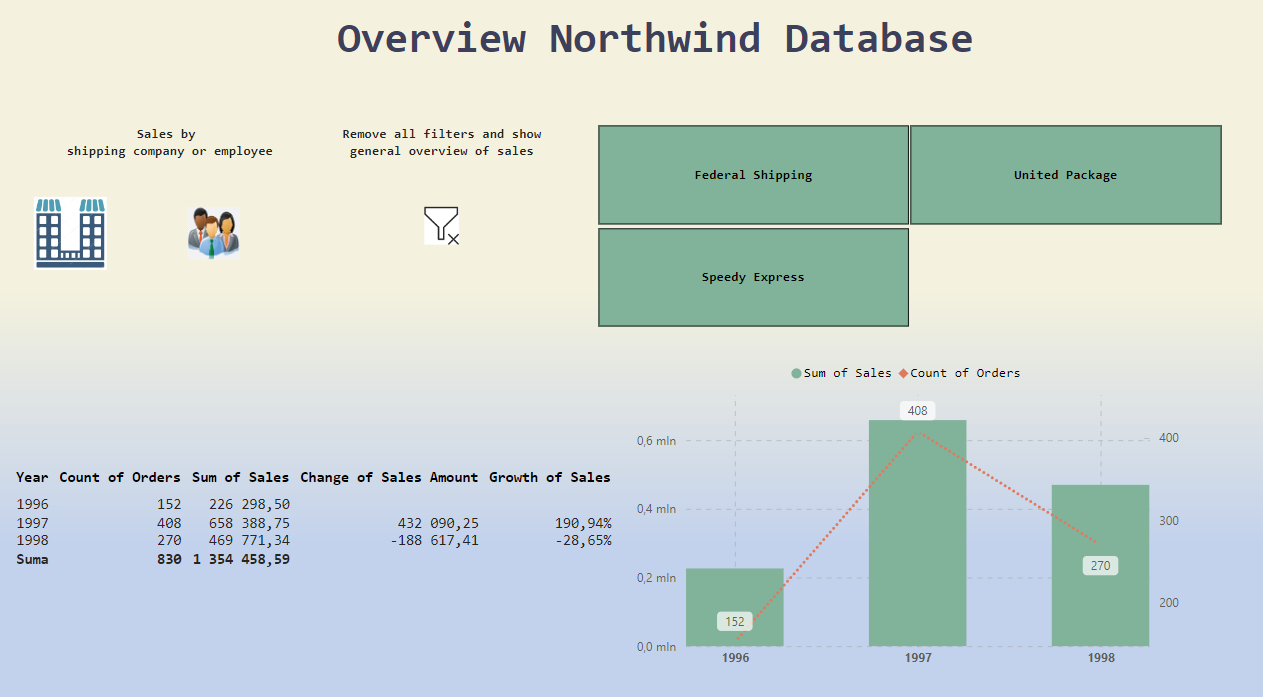

What the dashboard file says about the page in this screenshot:
{"tool":"powerbi","page":{"name":"Northwind Database","canvas":[1280,720],"ordinal":0},"visuals":[{"type":"textbox","title":"Title of card","box":[303.8,15,713.8,71.2],"z":5000},{"type":"textbox","title":"Text remove filters","box":[332.2,125.6,231.1,46.7],"z":6000},{"type":"image","title":"Picture company","box":[33.3,198.9,88.9,82.2],"z":7000},{"type":"textbox","title":"Text sales by company or employee","box":[33.3,125.6,286.7,46.7],"z":8000},{"type":"image","title":"Picture remove filters","box":[402.5,208.8,88.8,47.5],"z":9000},{"type":"image","box":[160,208.9,120,62.2],"z":10000},{"type":"card","title":"Total sales","fields":{"Values":["Messure.Sum of Sales"]},"box":[820,185,332.5,96.2],"z":11000},{"type":"card","title":"Count of orders","fields":{"Values":["Messure.Count of Orders"]},"box":[862.5,330,247.5,136.2],"z":12000},{"type":"card","title":"Count of customers","fields":{"Values":["Messure.Count of customers"]},"box":[886.2,488.8,201.2,131.2],"z":13000},{"type":"clusteredColumnChart","title":"Quarterly Sales ","fields":{"Category":["Calendar.Date Hierarchy.Year","Calendar.Date Hierarchy.Quarter"],"Y":["Messure.Sum of Sales"]},"box":[87.5,291.2,665,368.8],"z":14000}]}

Visuals, with their boxes in screenshot pixels (x1, y1, x2, y2), scaled from the page's 1280x720 canvas onto the 1263x697 screenshot:
"Title of card" textbox: 300,15,1004,83
"Text remove filters" textbox: 328,122,556,167
"Picture company" image: 33,193,121,272
"Text sales by company or employee" textbox: 33,122,316,167
"Picture remove filters" image: 397,202,485,248
image: 158,202,276,262
"Total sales" card: 809,179,1137,272
"Count of orders" card: 851,319,1095,451
"Count of customers" card: 874,473,1073,600
"Quarterly Sales " clusteredColumnChart: 86,282,743,639
